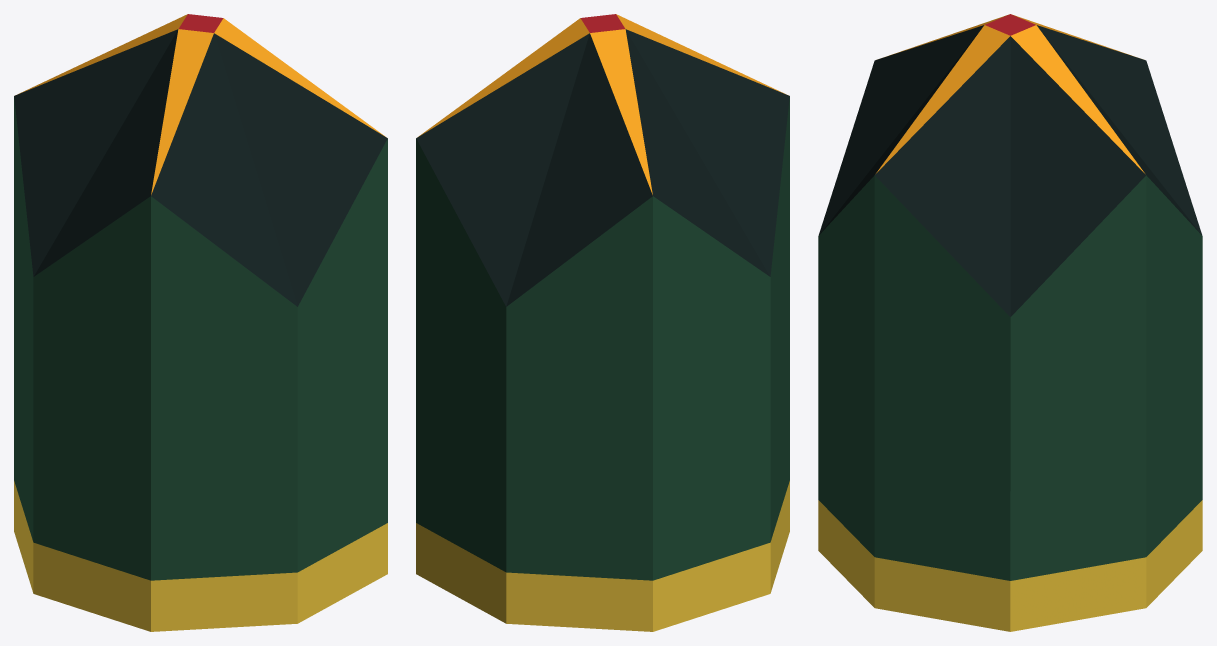
The model's file is Tank_Mortar_Projectile.fbx.
The picture shows the model from 3 angles, left to right: view 1: azimuth 30°, elevation 25°; view 2: azimuth 150°, elevation 25°; view 3: azimuth 270°, elevation 25°; orthographic projection.
Parts seen in each view (by area): view 1: Tank_Hammer_Project; view 2: Tank_Hammer_Project; view 3: Tank_Hammer_Project.
Part boxes in pixels (x1,y1,x2,y2): Tank_Hammer_Project: [14, 14, 387, 631]; Tank_Hammer_Project: [416, 14, 789, 631]; Tank_Hammer_Project: [818, 14, 1202, 631].
Size of the model in its own units: 40.03 by 60.45 by 40.03.
